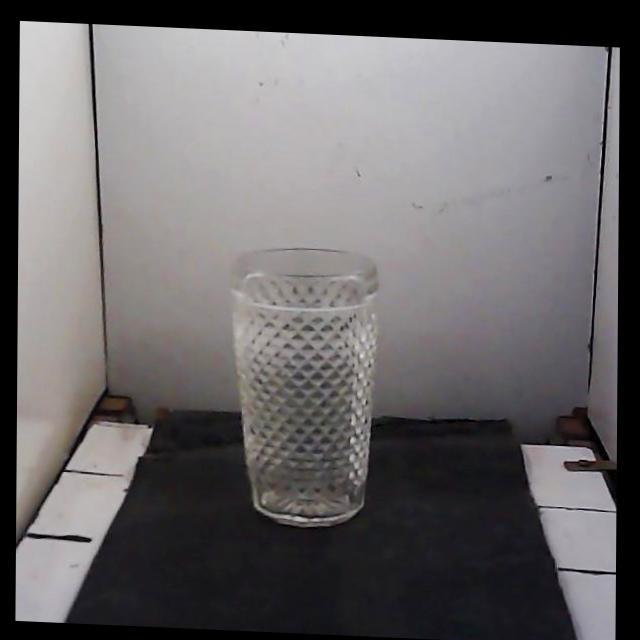vidro: (234, 248, 378, 526)
